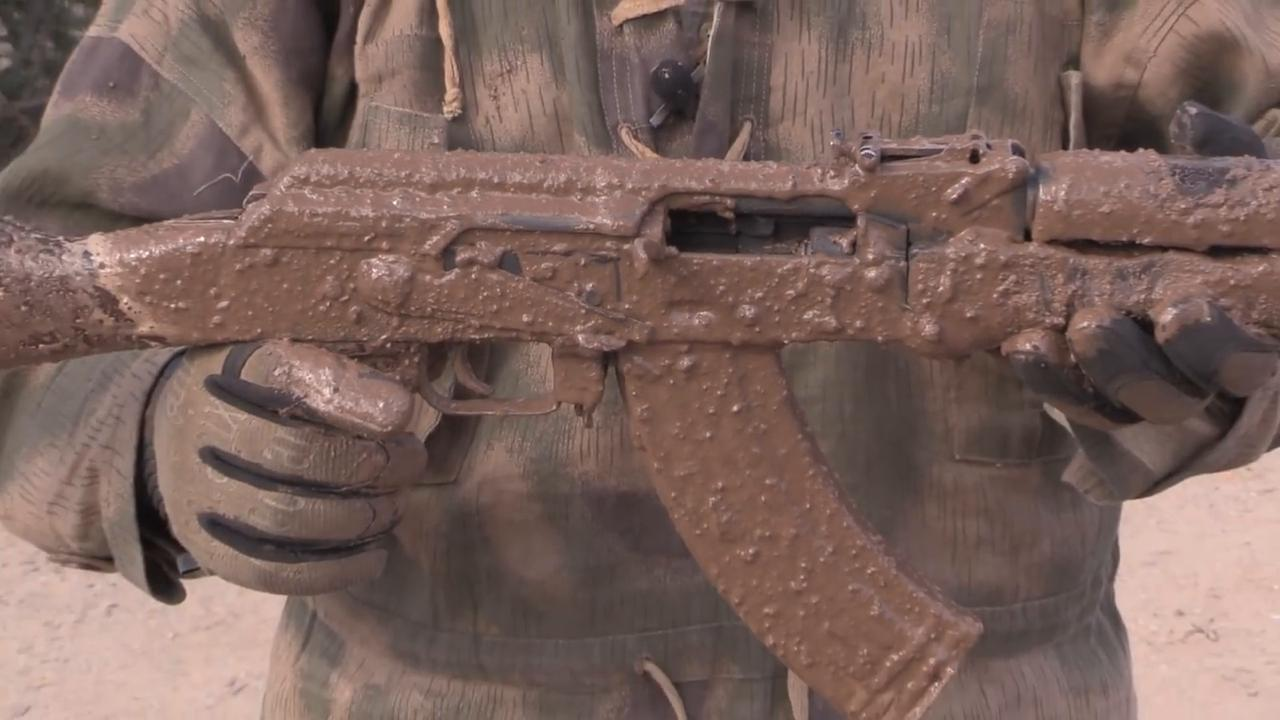AK47 Rifle: (3, 134, 1280, 716)
